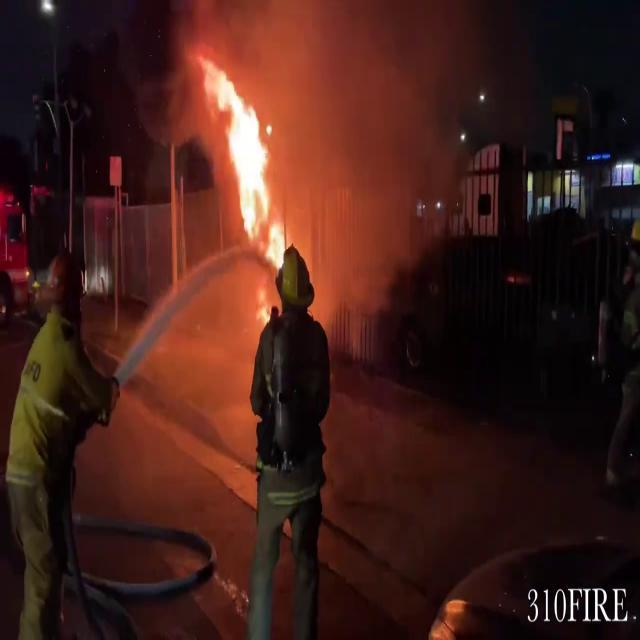Fire: (199, 47, 283, 245)
Smoke: (258, 1, 466, 334)
